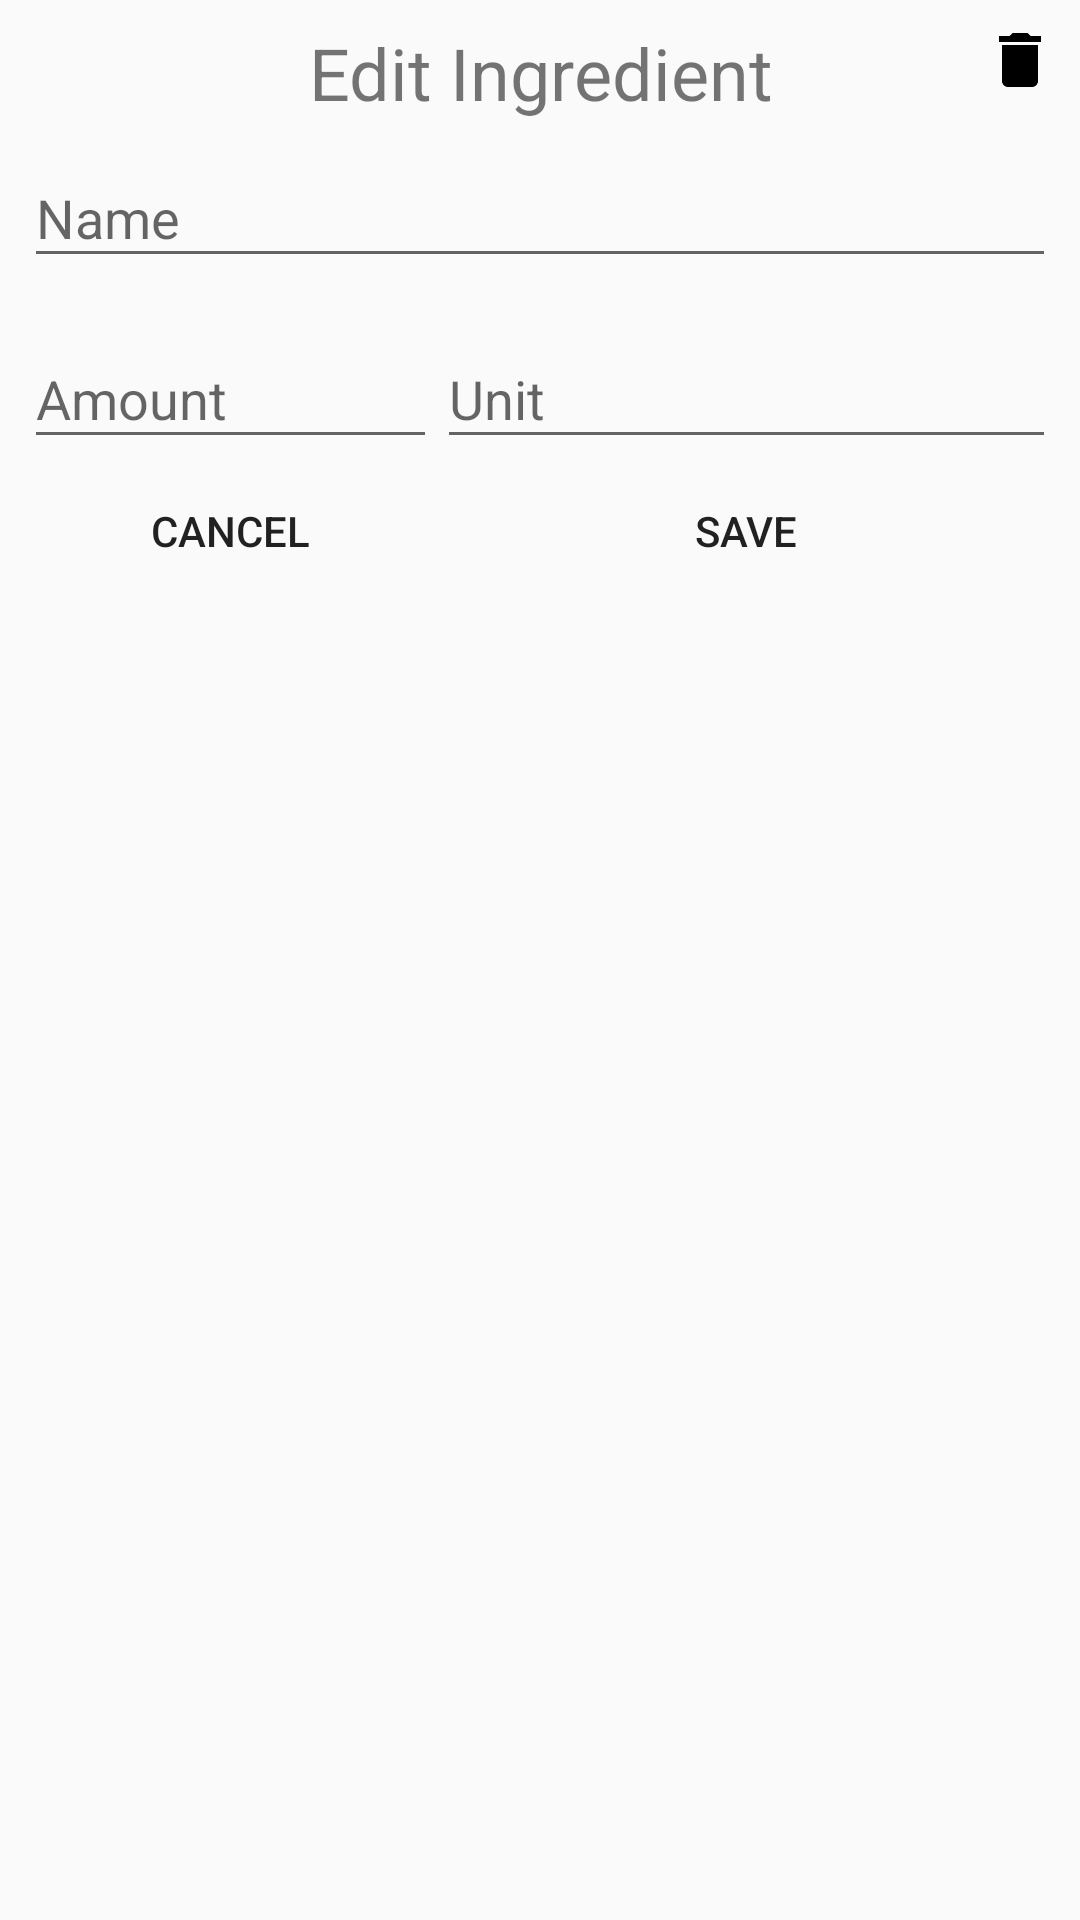

Icons on this 1080px×1920px Android screen, each with the point to tap as (x=x, y=y):
delete icon: (x=1020, y=60)
